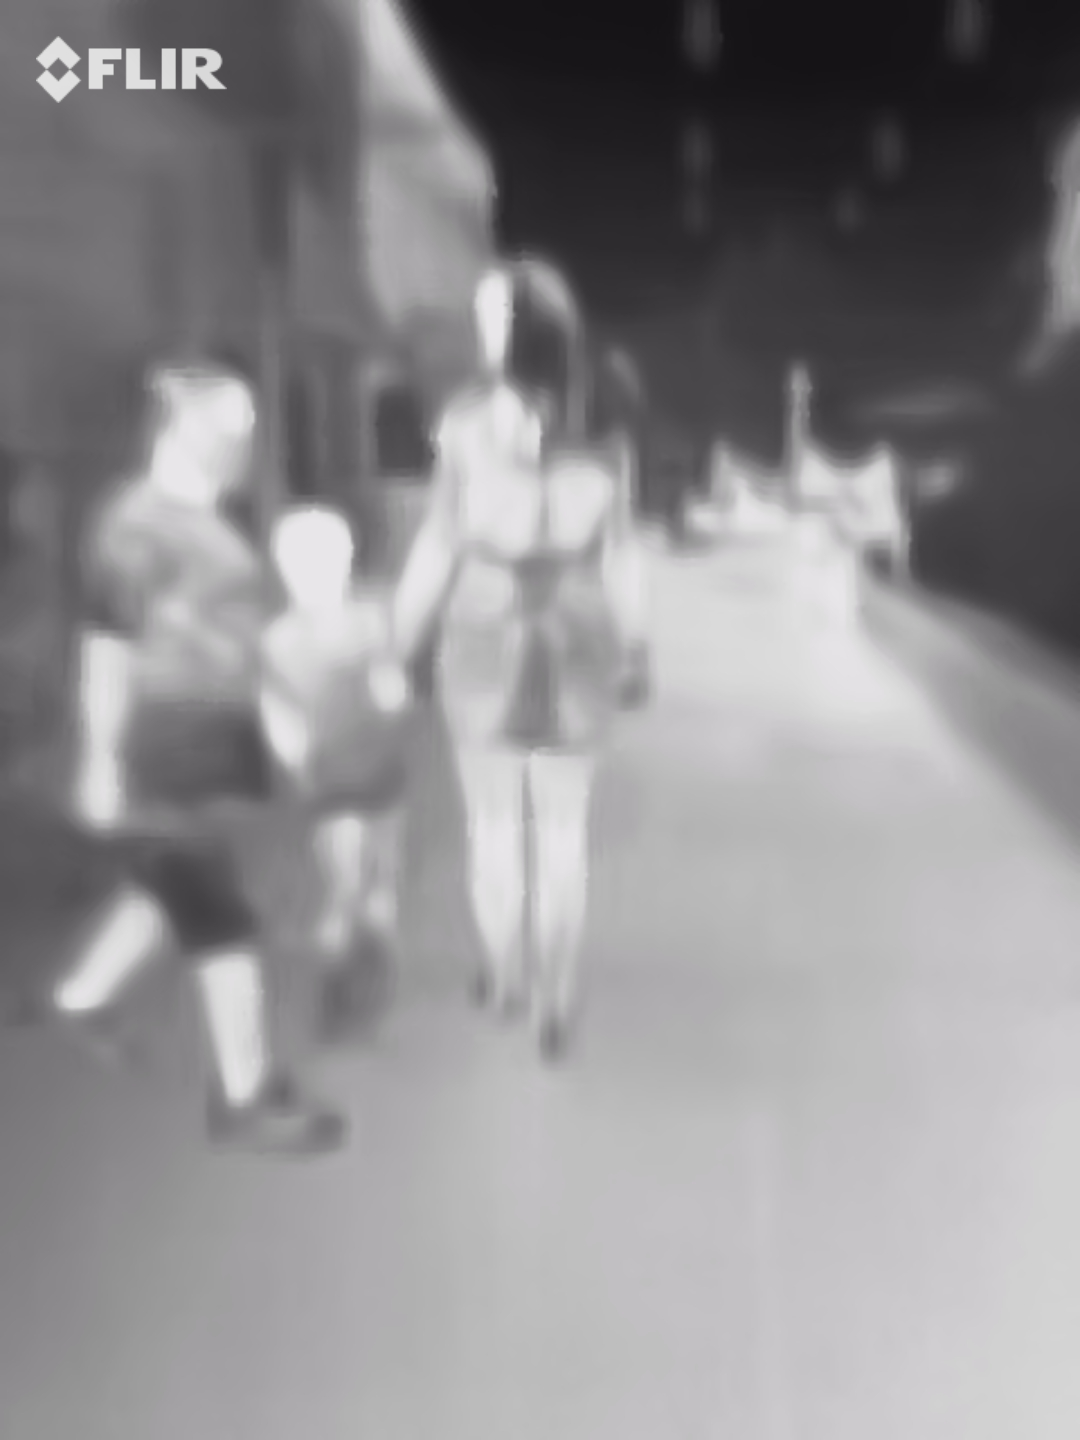head: (142, 363, 263, 498), (468, 259, 569, 381)
